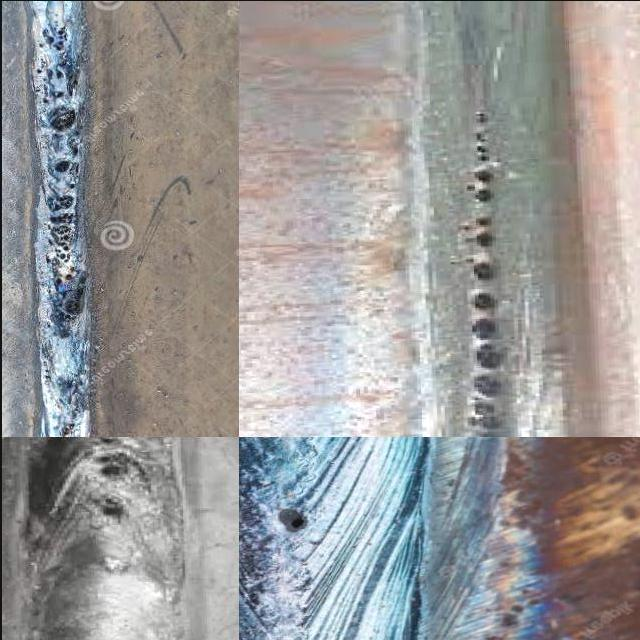defect: (461, 214, 516, 436), (39, 145, 89, 325), (31, 7, 83, 106), (460, 104, 496, 208), (88, 436, 133, 484), (88, 489, 136, 527), (269, 501, 311, 539), (45, 104, 77, 135), (55, 420, 80, 436)
